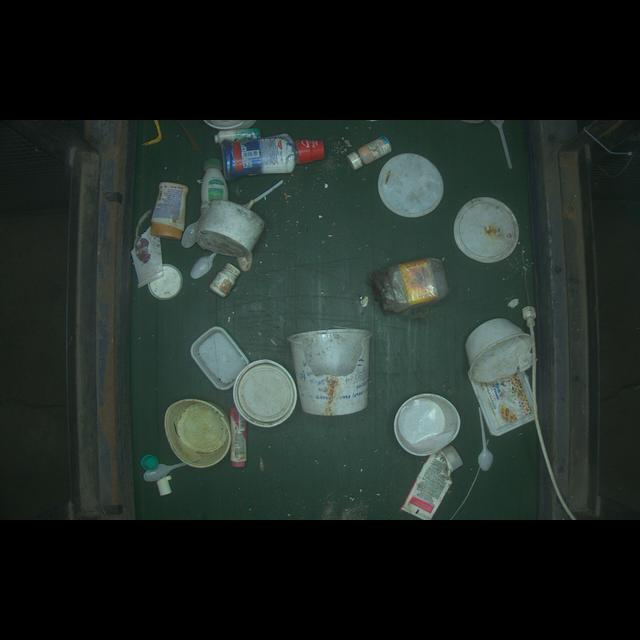mix PP: (397, 388, 464, 457), (454, 198, 524, 264), (404, 447, 465, 521), (366, 261, 451, 310), (151, 178, 187, 245)
